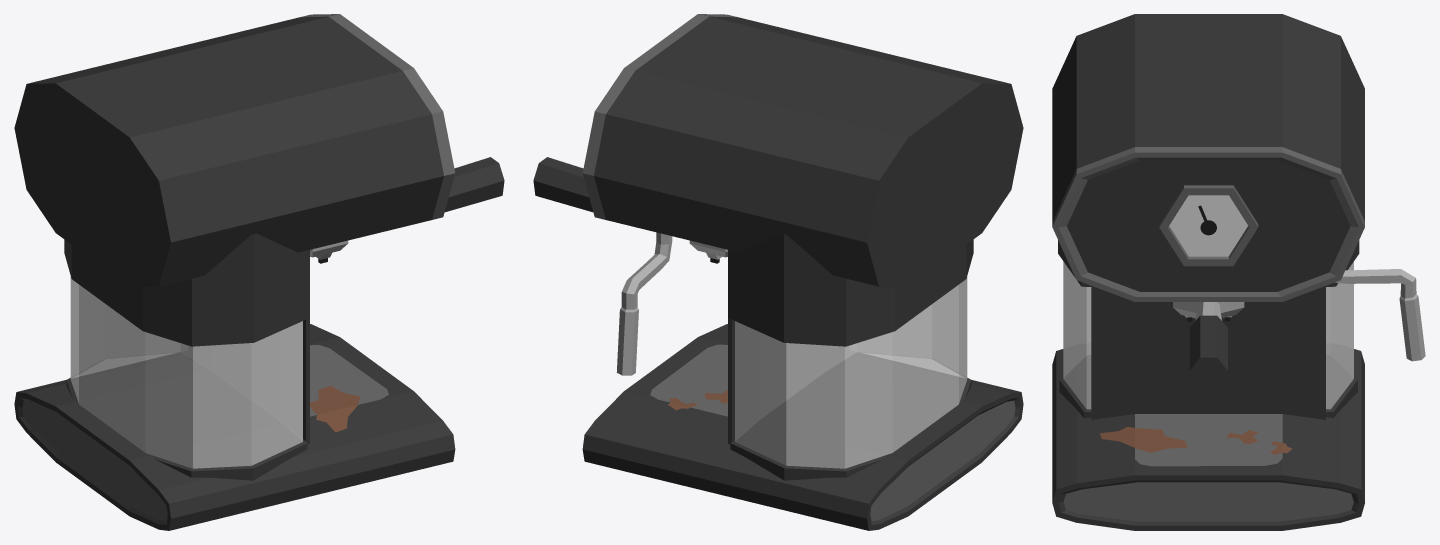
File: ppCoffeeMachine.glb
3 views of the same model, side by side, from view 1: azimuth 30°, elevation 25°; view 2: azimuth 150°, elevation 25°; view 3: azimuth 270°, elevation 25° (orthographic).
Visible parts, largest first — view 1: ExpressoMachine_Cube.001; view 2: ExpressoMachine_Cube.001; view 3: ExpressoMachine_Cube.001.
Boxes of the visible parts, box(x1,y1,x2,y2) form: ExpressoMachine_Cube.001: box(14, 14, 504, 530); ExpressoMachine_Cube.001: box(533, 14, 1023, 530); ExpressoMachine_Cube.001: box(1052, 14, 1425, 530).
Bounding box in the file's own units: 1.12 × 1.01 × 0.9052.
2 materials, 2 textured.
